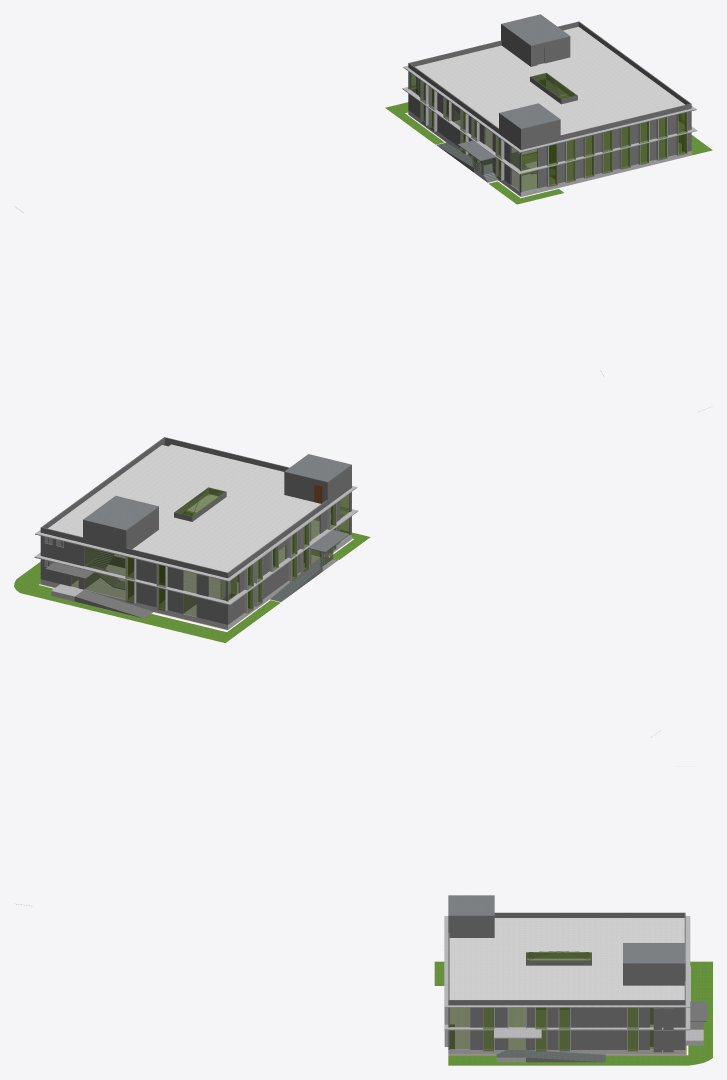
File: Zone02.glb
3 views of the same model, one above another, from view 1: azimuth 30°, elevation 25°; view 2: azimuth 150°, elevation 25°; view 3: azimuth 270°, elevation 25° (orthographic). The views are drawn at different scales.
Bounding box in the file's own units: 119 × 13.36 × 118.
12 materials, 7 textured.
